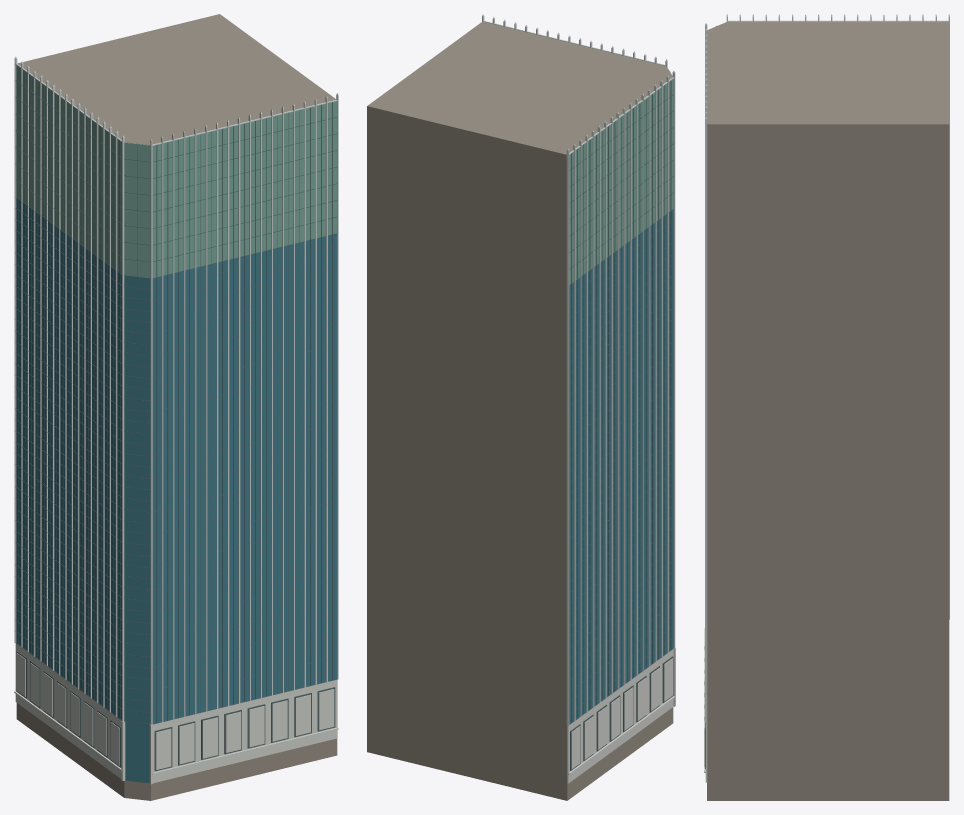
Rendered from light.glb.
3 views of the same model, side by side, from view 1: azimuth 30°, elevation 25°; view 2: azimuth 150°, elevation 25°; view 3: azimuth 270°, elevation 25° (orthographic). The views are drawn at different scales.
Parts seen in each view (by area): view 1: F_glass_00_00, F_vertical_rib_00, F_fine_mullion_00_00, F_glass_40_00, Closed_backing_HOLD_rear_roof, F_podium_backing; view 2: Closed_backing_HOLD_rear_roof, F_glass_00_00, F_vertical_rib_00, F_fine_mullion_00_00, F_glass_40_00, F_podium_backing; view 3: Closed_backing_HOLD_rear_roof, F_vertical_rib_00.
Part boxes in pixels (x1,y1,x2,y2): F_glass_00_00: (16,198,336,783); F_vertical_rib_00: (14,57,338,724); F_fine_mullion_00_00: (15,67,337,771); F_glass_40_00: (16,65,336,278); Closed_backing_HOLD_rear_roof: (16,14,337,800); F_podium_backing: (14,643,338,784); Closed_backing_HOLD_rear_roof: (367,21,673,800); F_glass_00_00: (569,210,673,723); F_vertical_rib_00: (482,14,675,725); F_fine_mullion_00_00: (569,71,673,770); F_glass_40_00: (569,67,673,284); F_podium_backing: (567,647,675,783); Closed_backing_HOLD_rear_roof: (707,22,949,800); F_vertical_rib_00: (705,14,949,721).
Bounding box in the file's own units: 36.54 × 112 × 36.54.
